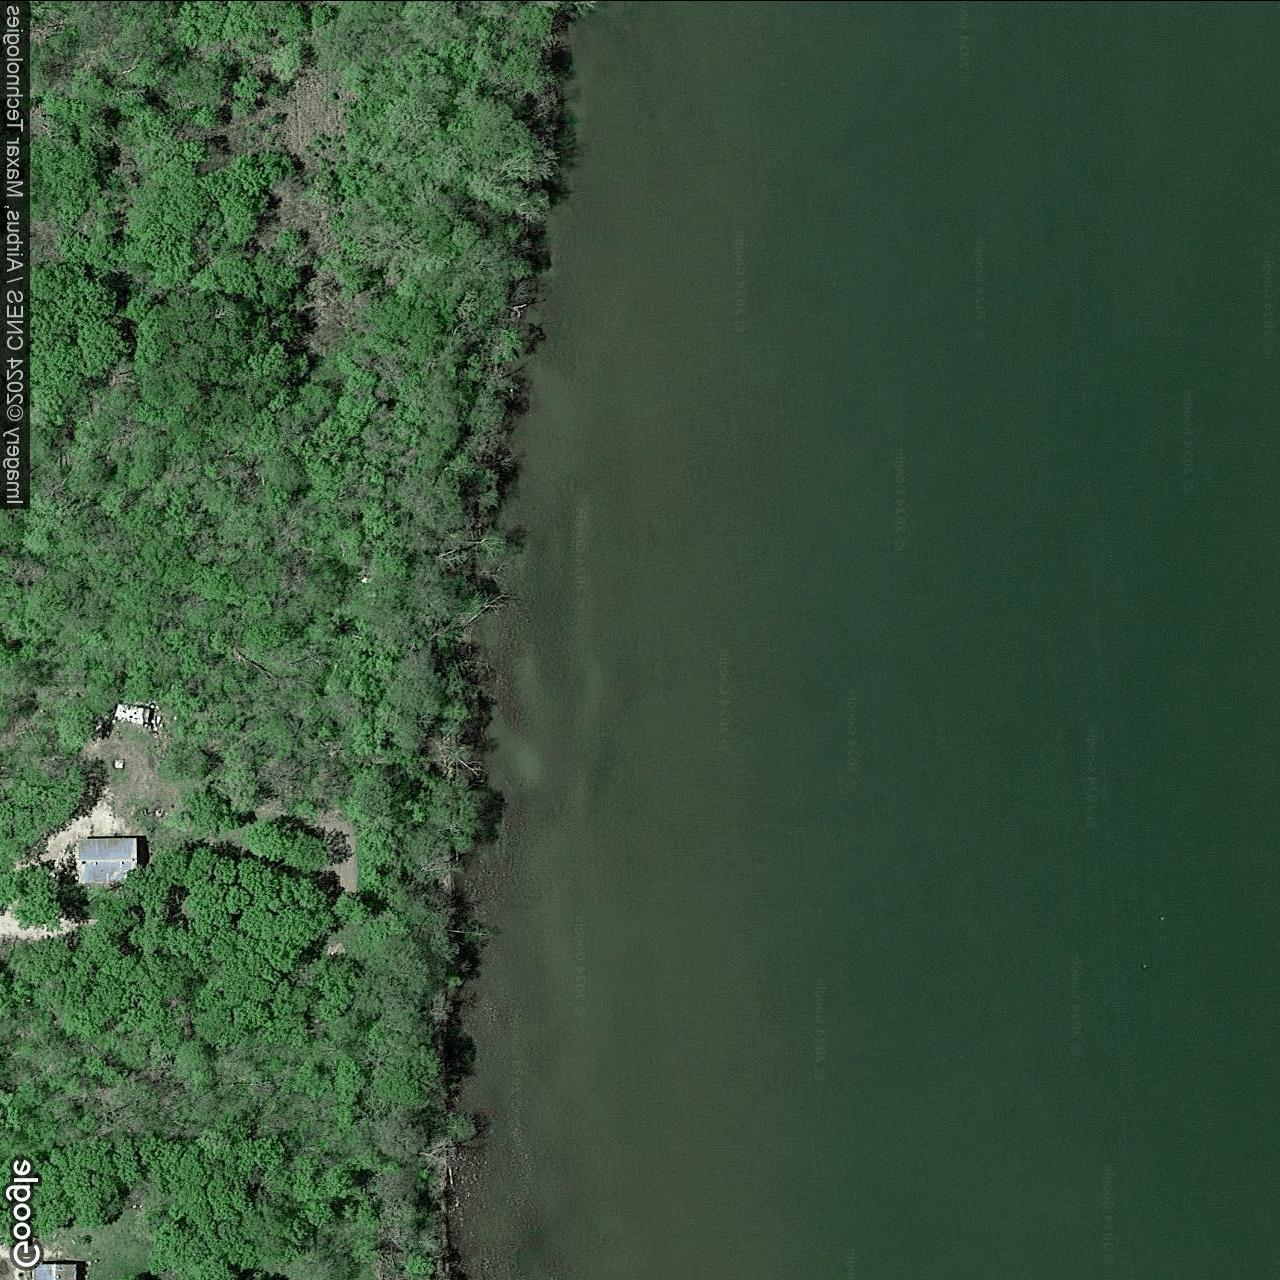House: (76, 837, 137, 883), (32, 1262, 77, 1280)
